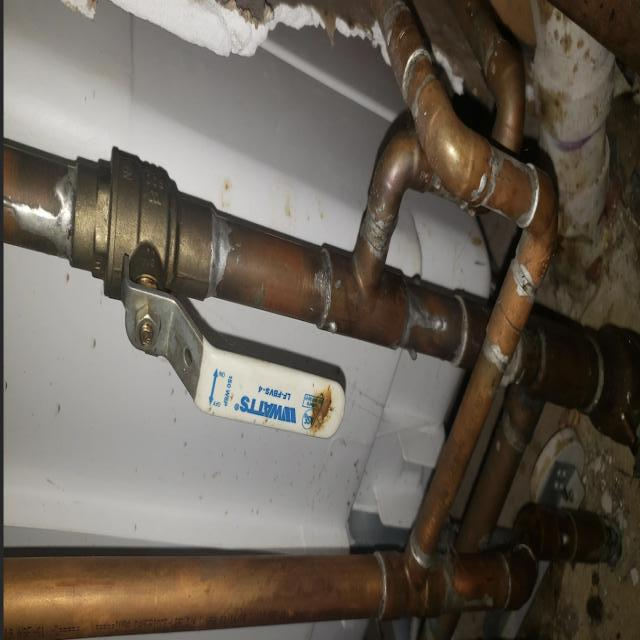opened_valve: (67, 140, 347, 442)
